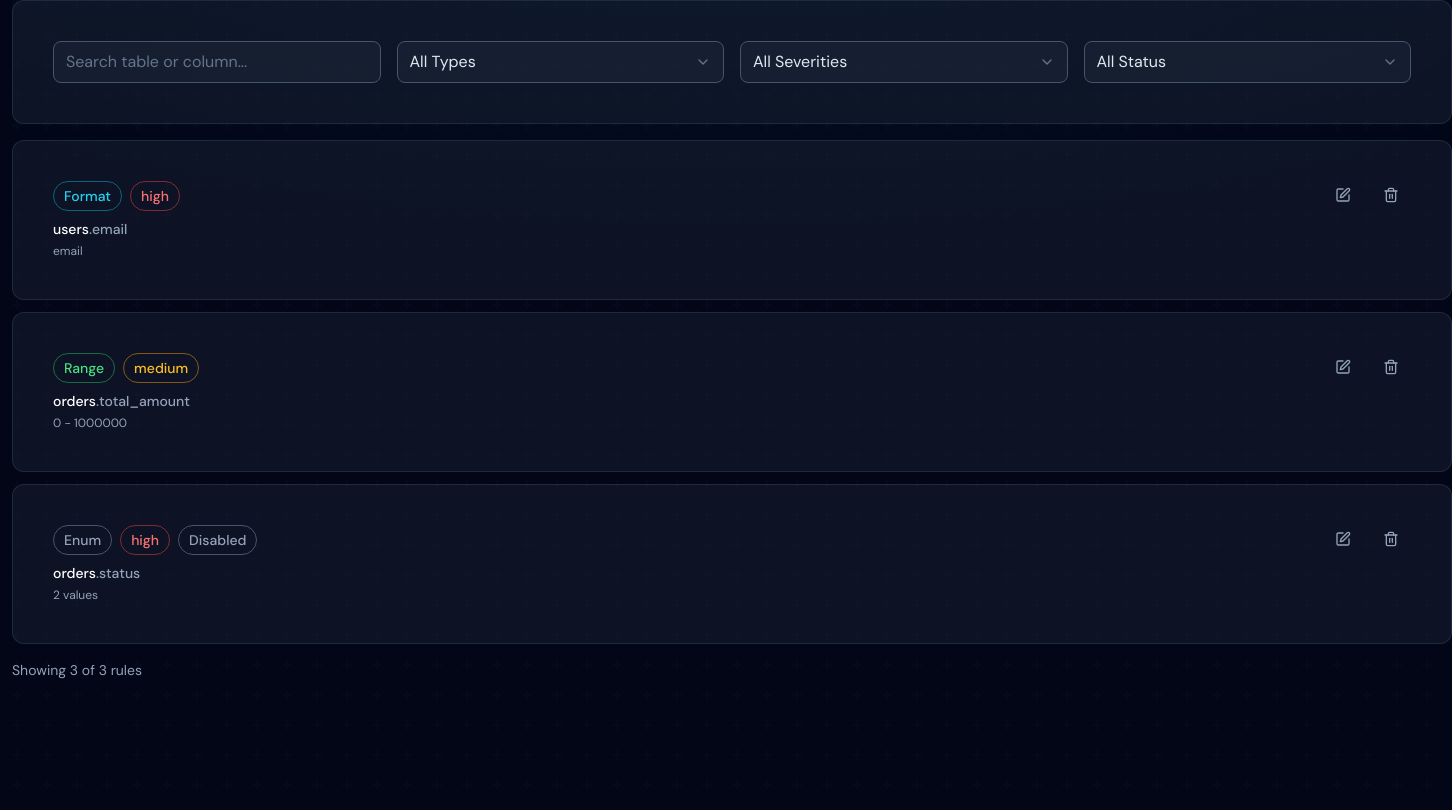
Test: RuleList › filters rules by search query
The image size is (1452, 810).
Type "users" into the field with placeholder "Search table or column..." at (217, 62), box x1=53 y1=41 x2=380 y2=83
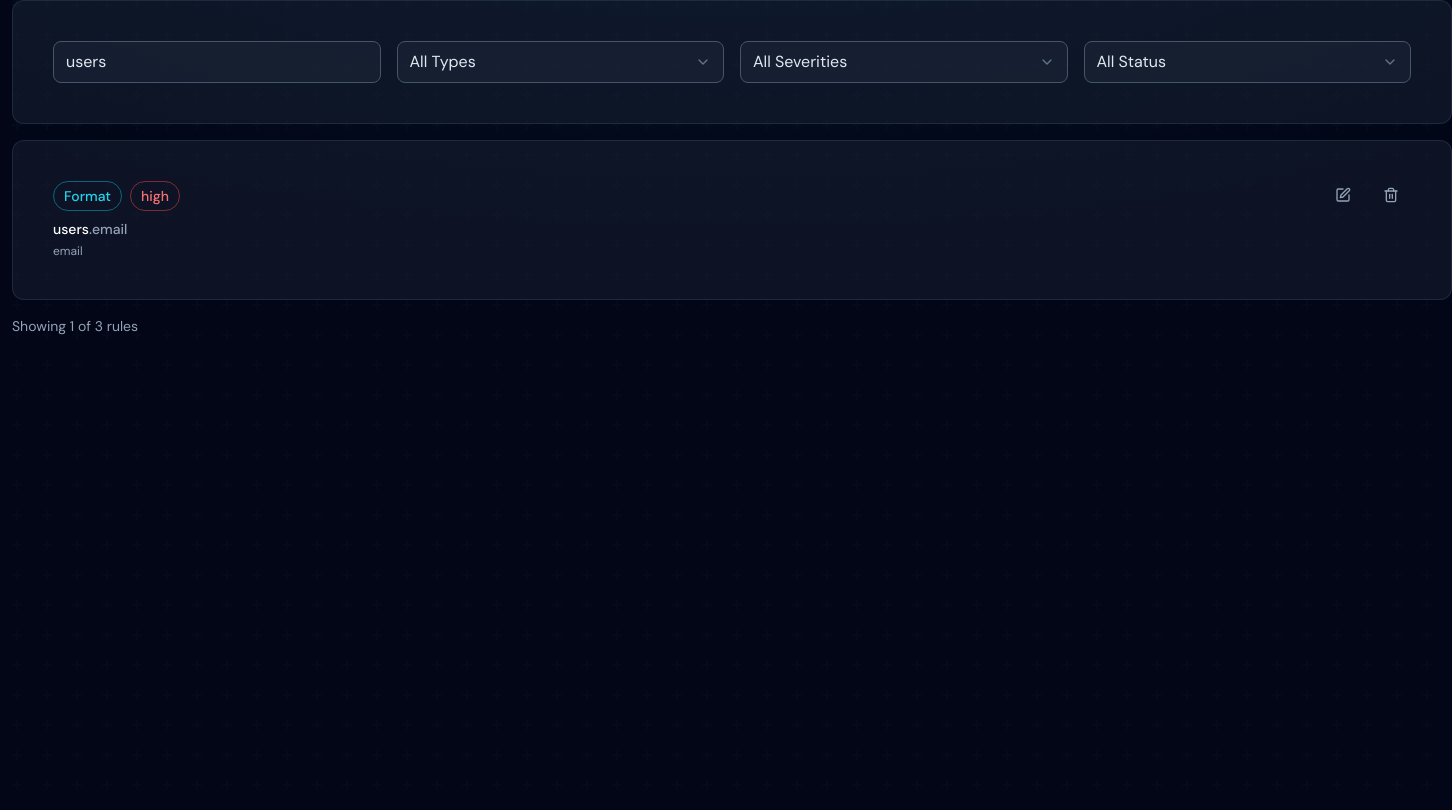
Expected: the text "users.email" is shown, x1=53 y1=220 x2=127 y2=238
Result: the text "orders" is not shown
